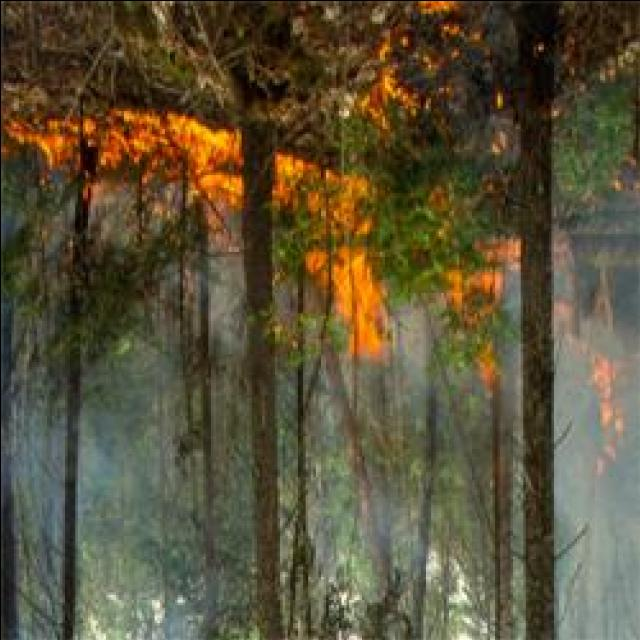fire: (108, 115, 252, 192), (320, 250, 390, 360)
smoke: (553, 223, 640, 640)
